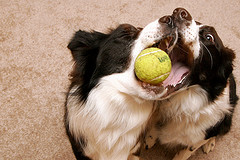tennis ball: (132, 46, 172, 85)
